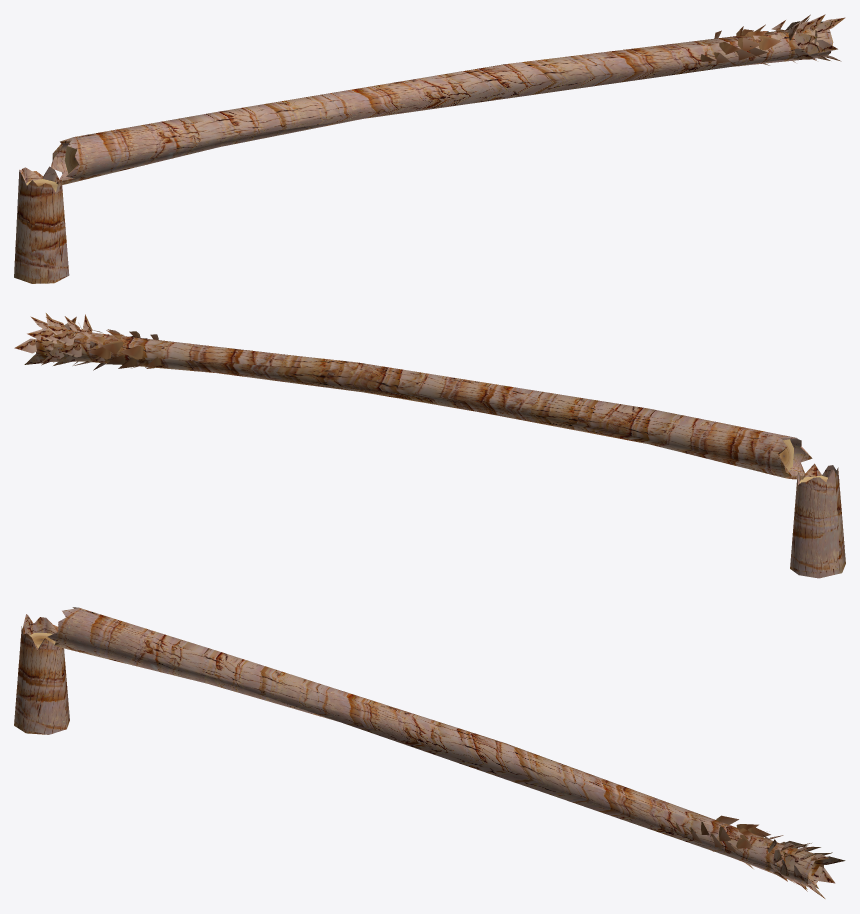
Rendered from jungle_fallentree_noleaf_2_dream.glb.
The picture shows the model from 3 angles, top to bottom: view 1: azimuth 30°, elevation 25°; view 2: azimuth 150°, elevation 25°; view 3: azimuth 330°, elevation 25°; orthographic projection. The views are drawn at different scales.
Visible parts, largest first — view 1: jungle_fallentree_noleaf_2; view 2: jungle_fallentree_noleaf_2; view 3: jungle_fallentree_noleaf_2.
Part boxes in pixels (left/top/right/bottom): jungle_fallentree_noleaf_2: left=14, top=14, right=845, bottom=283; jungle_fallentree_noleaf_2: left=14, top=313, right=845, bottom=578; jungle_fallentree_noleaf_2: left=14, top=607, right=845, bottom=898.
Size of the model in its own units: 16.37 by 2.35 by 1.16.
2 materials, 2 textured.
